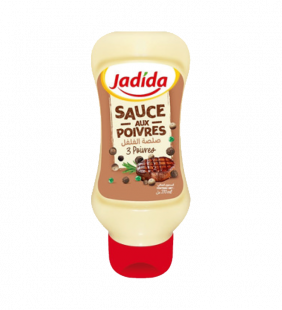JADIDA: (86, 26, 197, 284)
